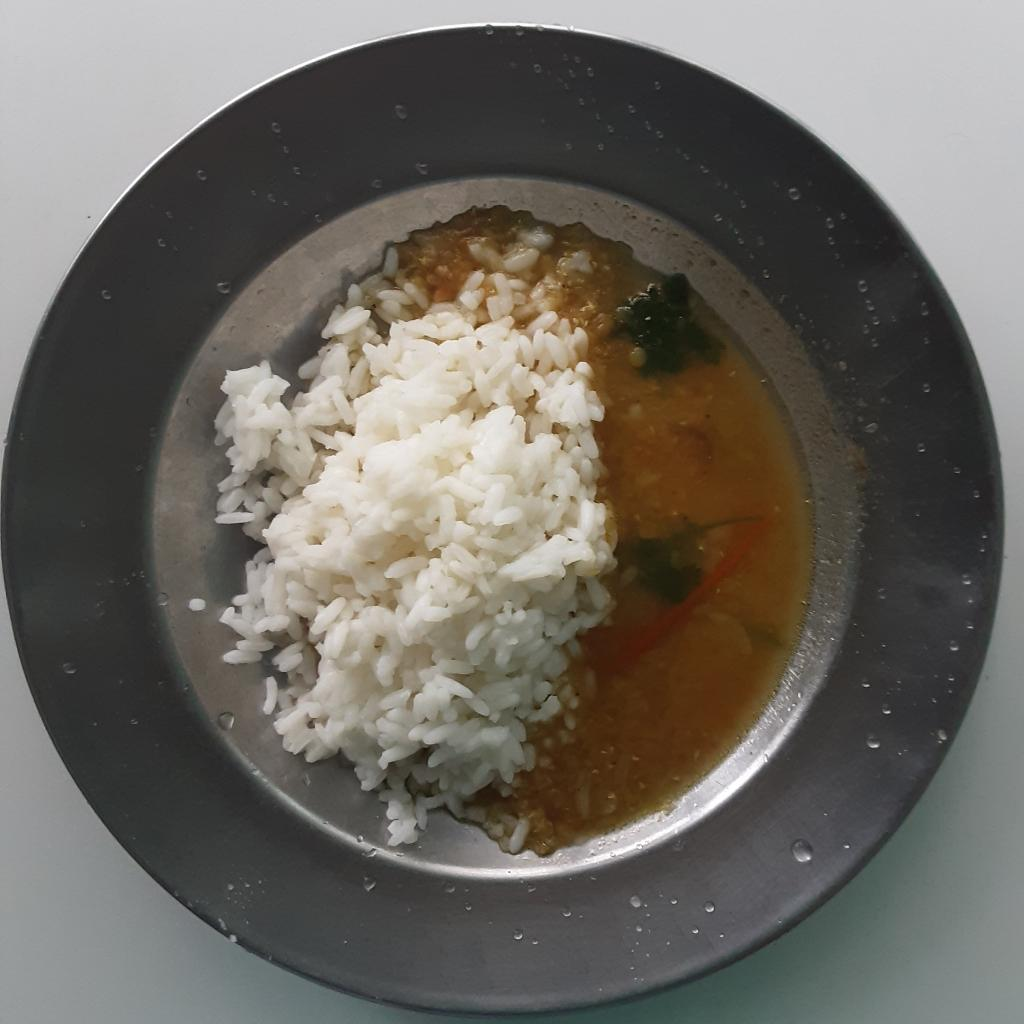daal: (395, 210, 825, 852)
rice: (213, 235, 613, 866)
